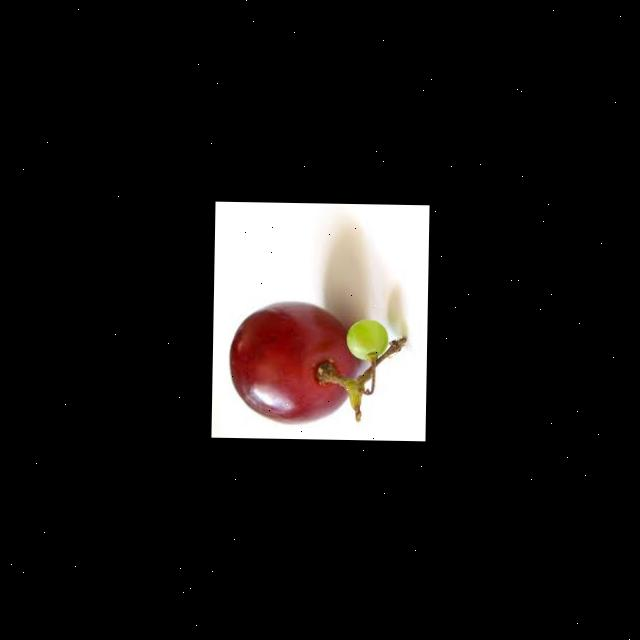grape: (345, 316, 388, 362)
